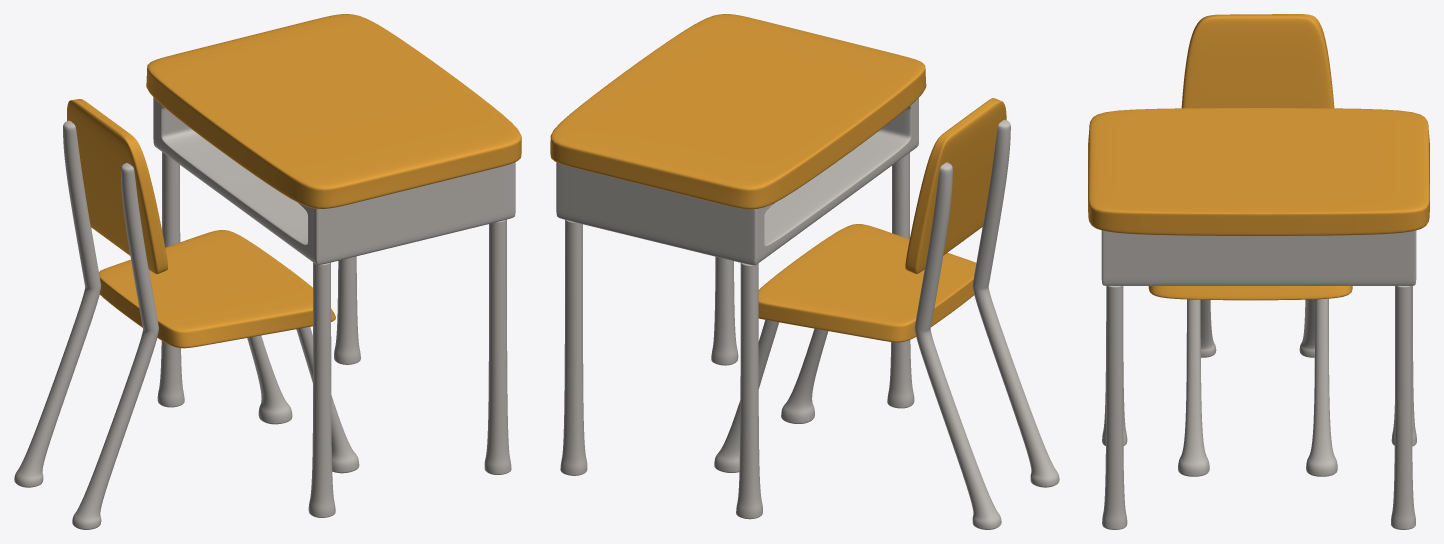
The model's file is chairAndDesk_final 1.fbx.
3 views of the same model, side by side, from view 1: azimuth 30°, elevation 25°; view 2: azimuth 150°, elevation 25°; view 3: azimuth 270°, elevation 25° (orthographic). The views are drawn at different scales.
Visible parts, largest first — view 1: Plane.014, Plane.019; view 2: Plane.014, Plane.019; view 3: Plane.014, Plane.019.
Boxes of the visible parts, box(x1,y1,x2,y2) form: Plane.014: box(146, 14, 521, 517); Plane.019: box(14, 99, 359, 529); Plane.014: box(550, 14, 926, 519); Plane.019: box(714, 98, 1059, 529); Plane.014: box(1088, 108, 1429, 529); Plane.019: box(1148, 14, 1352, 476).
Bounding box in the file's own units: 533 × 476 × 408.
